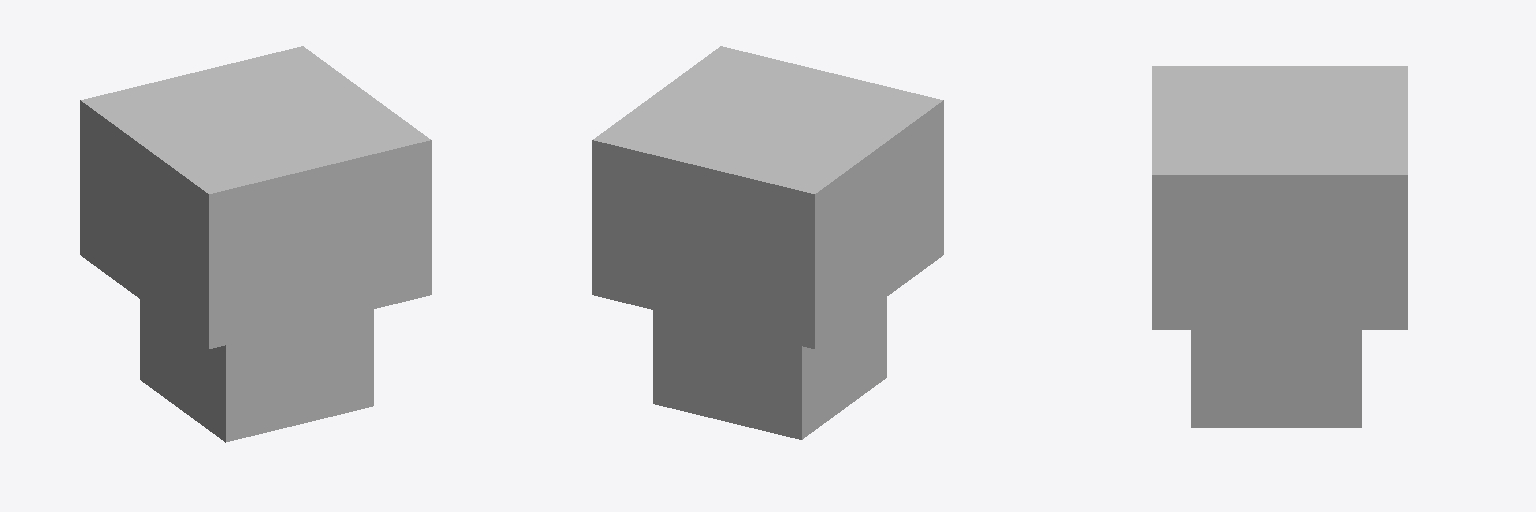
File: TreeSmall.obj
The picture shows the model from 3 angles: view 1: azimuth 30°, elevation 25°; view 2: azimuth 150°, elevation 25°; view 3: azimuth 270°, elevation 25°; orthographic projection.
Parts seen in each view (by area): view 1: Object006; view 2: Object006; view 3: Object006.
Part boxes in pixels (bbox=[...]): Object006: bbox=[80, 46, 431, 442]; Object006: bbox=[592, 46, 943, 439]; Object006: bbox=[1152, 66, 1407, 427].
Size of the model in its own units: 3 by 3.5 by 3.